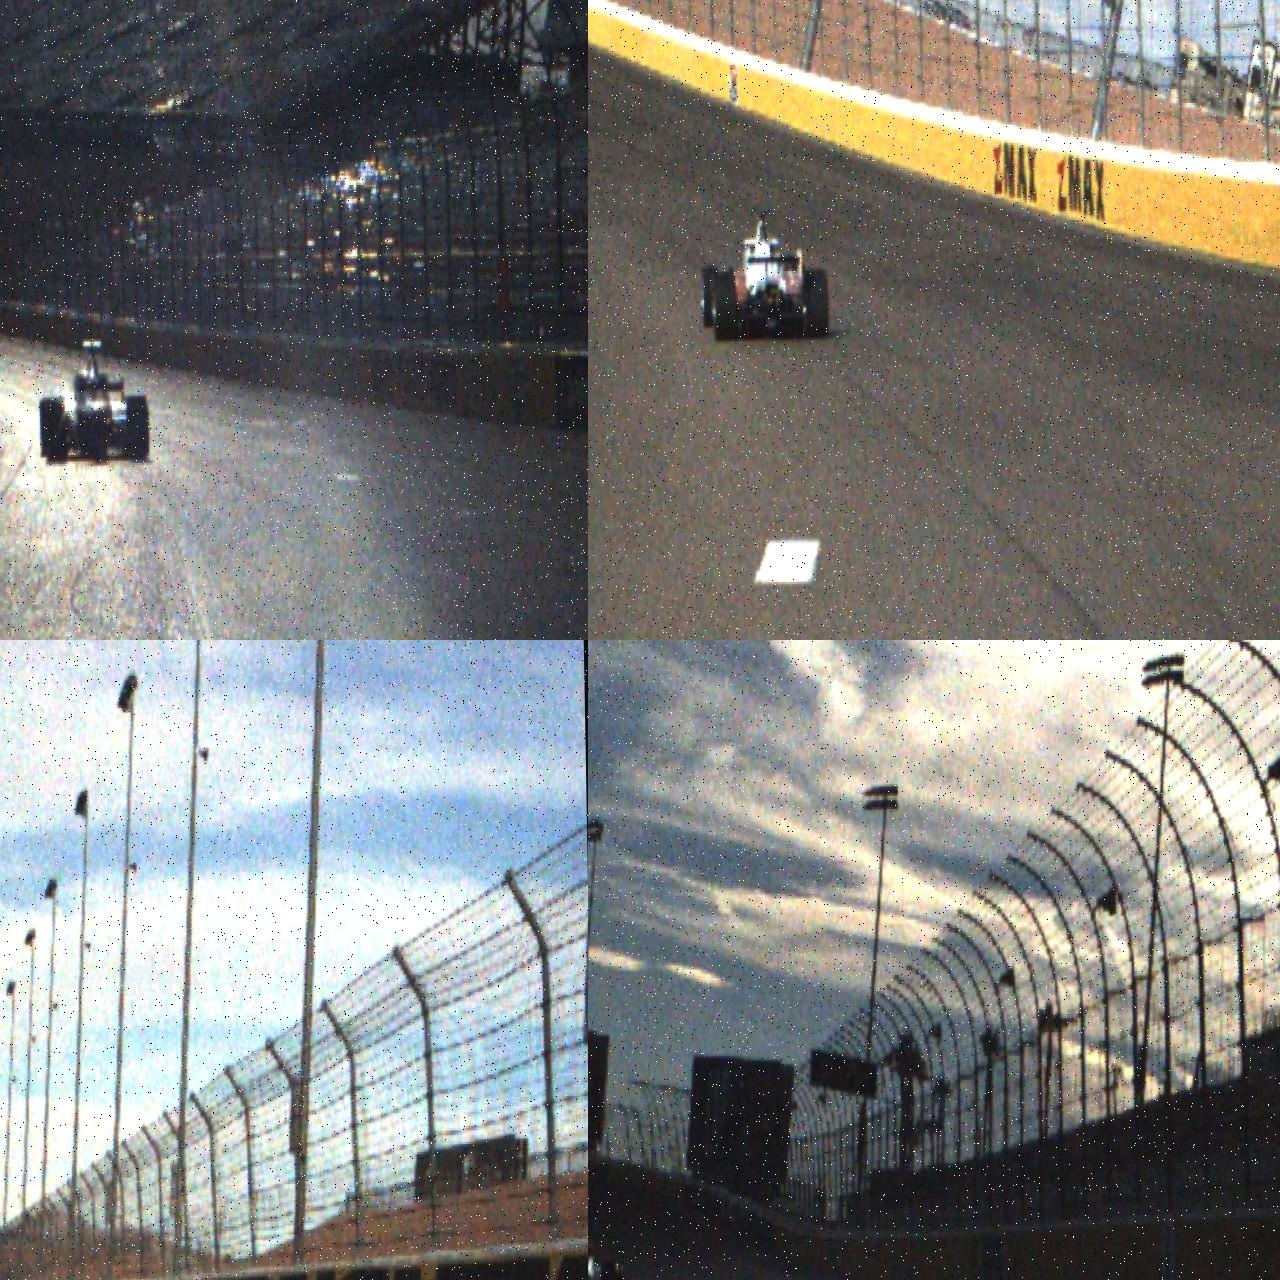AV: (699, 207, 829, 342), (38, 338, 150, 464), (588, 1213, 624, 1280)
Wheel: (805, 268, 829, 340), (712, 273, 736, 341), (127, 396, 150, 461), (46, 404, 68, 463), (701, 266, 721, 328), (600, 1259, 620, 1280)
